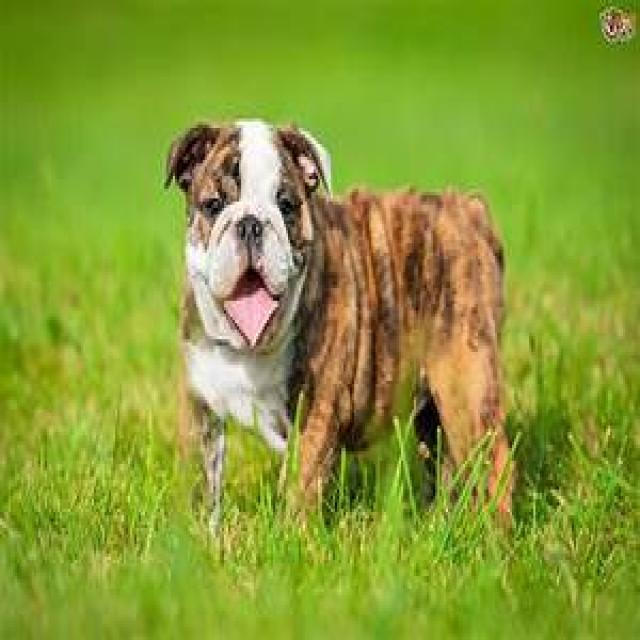dog: (164, 118, 518, 531)
